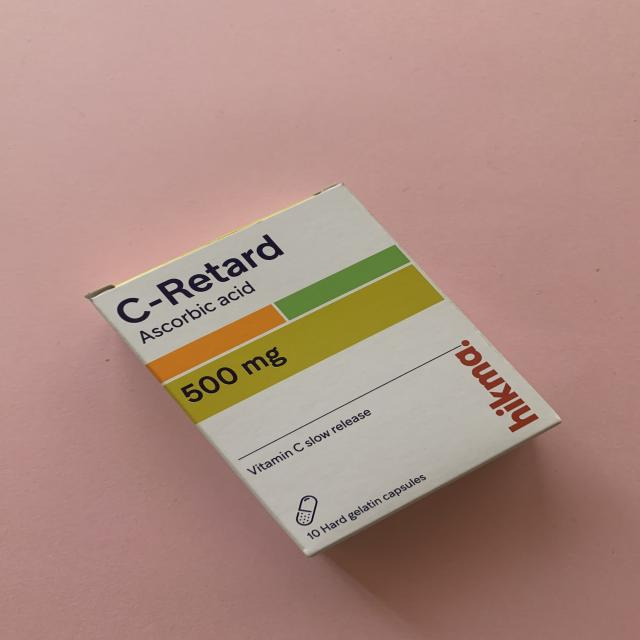C-Retard: (78, 180, 562, 552)
